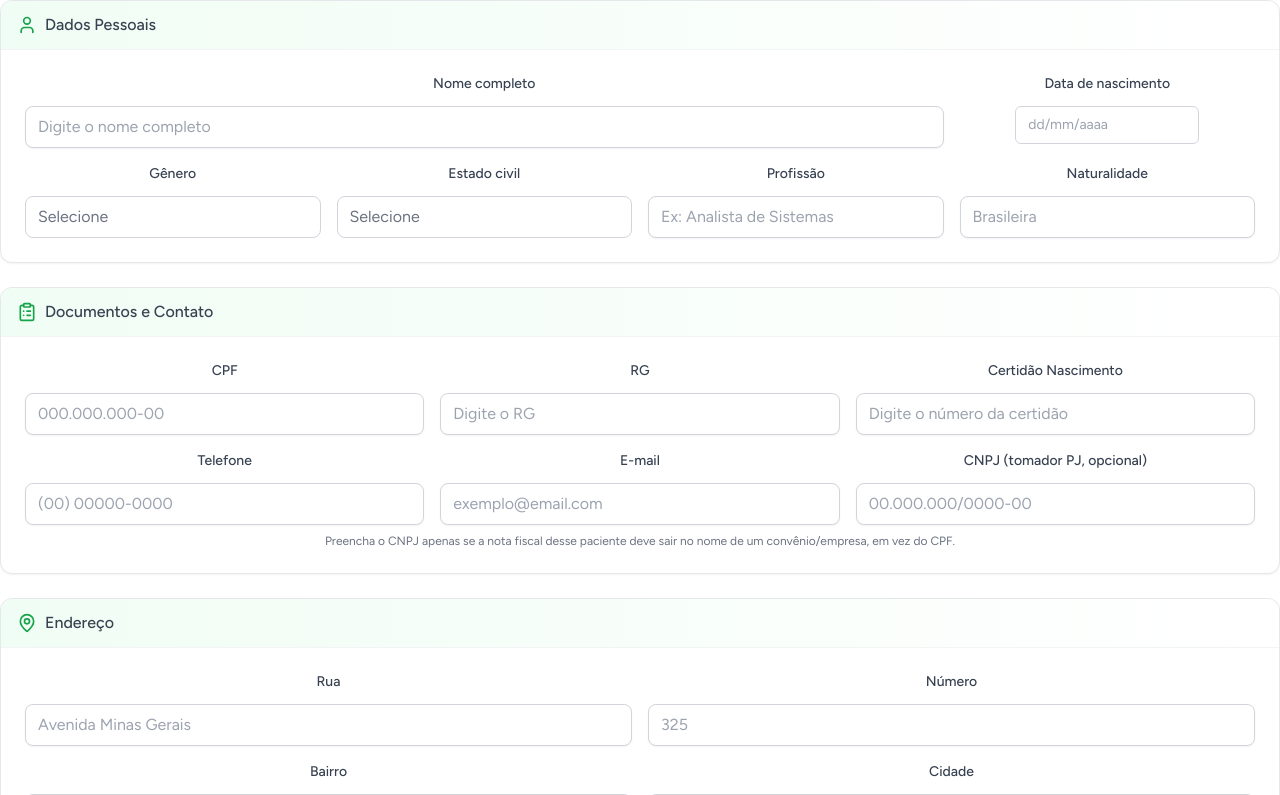
Scenario: PatientForm — data de nascimento › digitando passo a passo, as barras entram sozinhas
Step 1. Type "141" into the field with placeholder "dd/mm/aaaa" → [1107, 125], box left=1015, top=106, right=1199, bottom=144
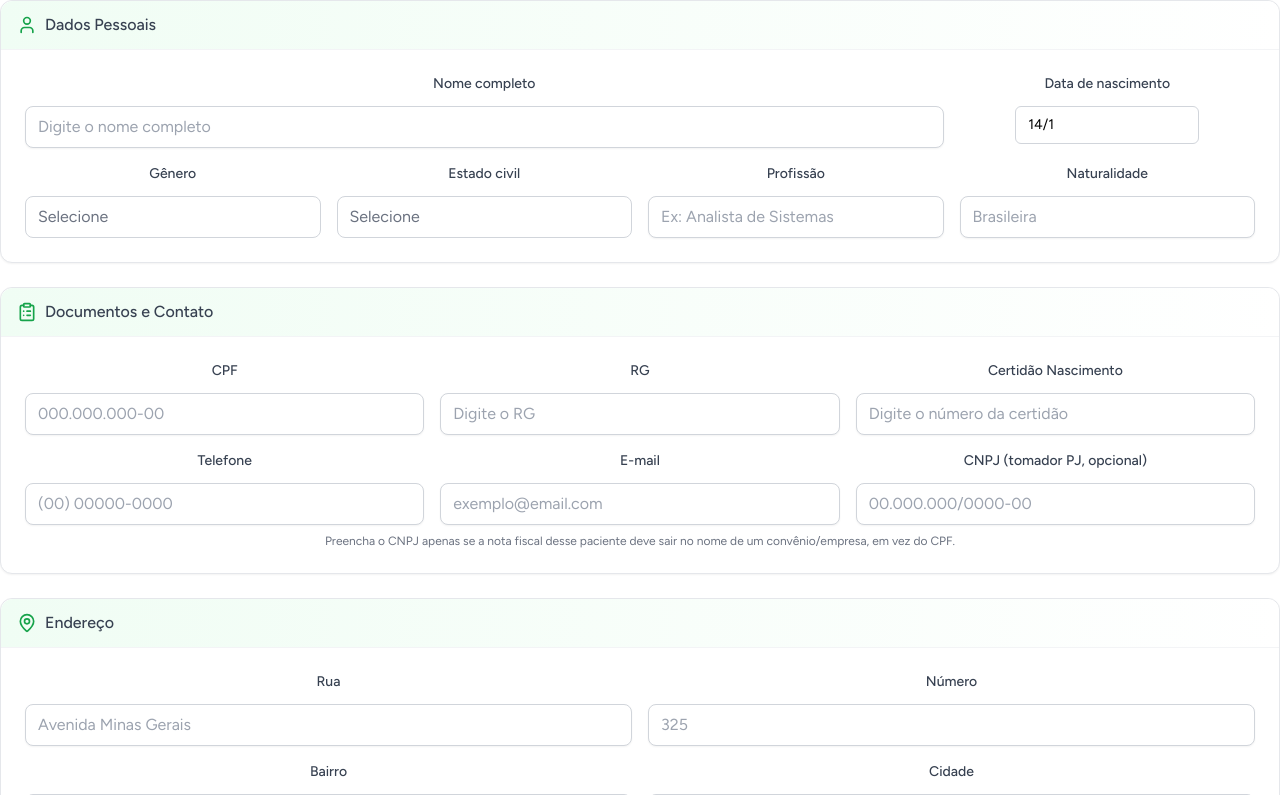
Now the field with placeholder "dd/mm/aaaa" holds "14/1"
Step 2. Replace the text in the field with placeholder "dd/mm/aaaa" with "14/101" → [1107, 125], box left=1015, top=106, right=1199, bottom=144
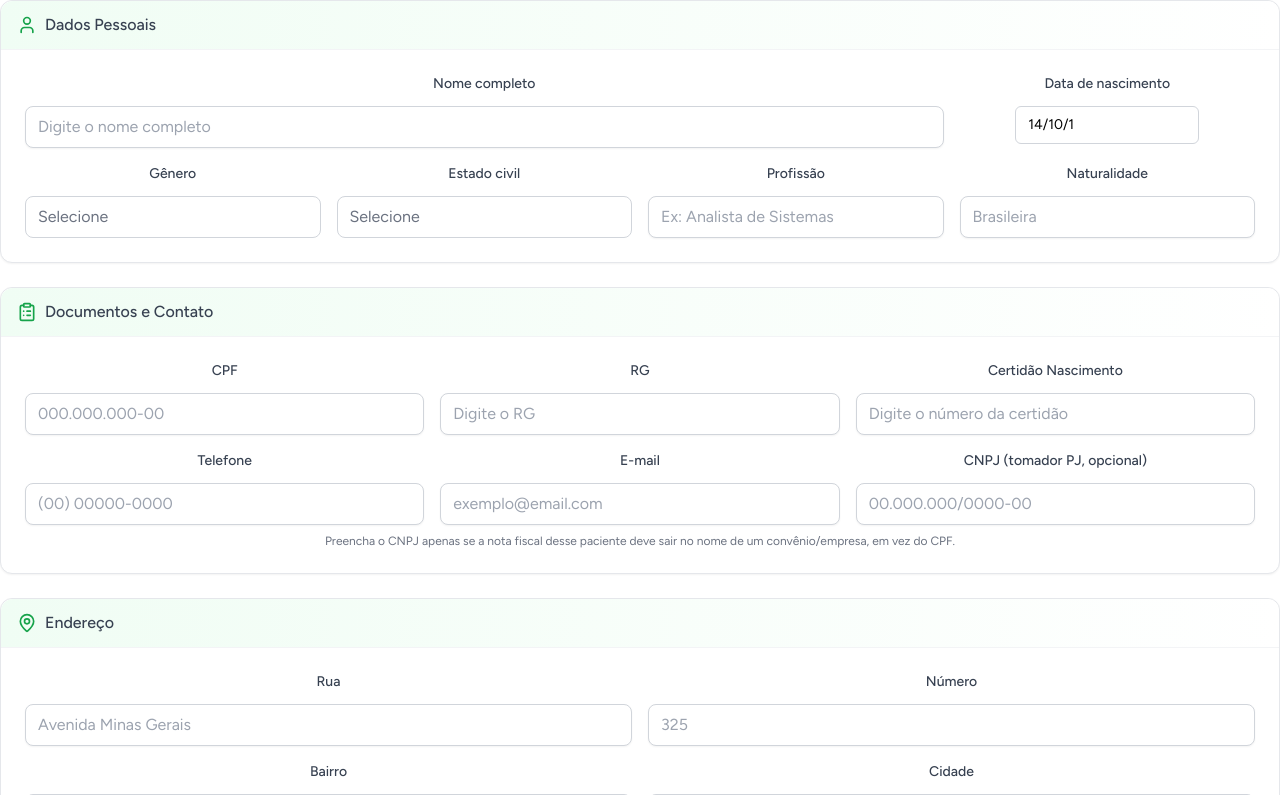
Now the field with placeholder "dd/mm/aaaa" holds "14/10/1", box left=1015, top=106, right=1199, bottom=144
